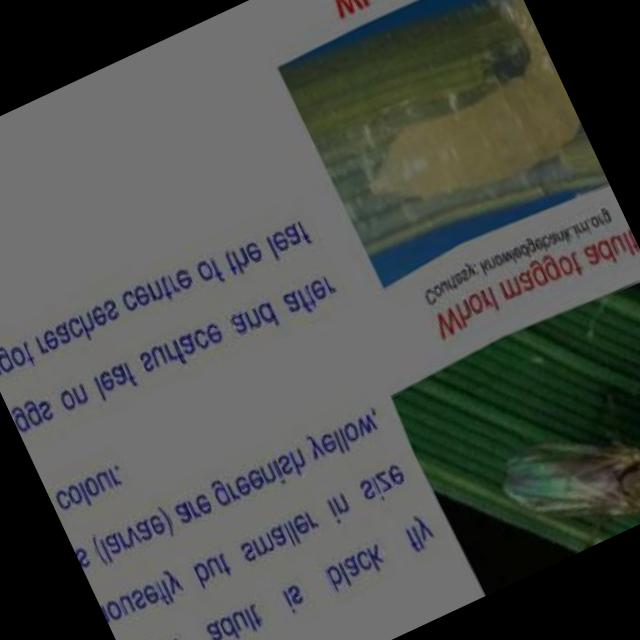whorl-maggot: (306, 0, 589, 235)
